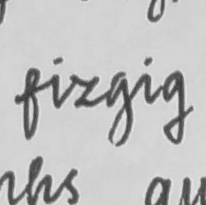f: (19, 65, 45, 142)
g: (159, 68, 195, 146), (103, 69, 136, 148)
i: (47, 54, 66, 111), (138, 54, 156, 106)
z: (67, 70, 101, 111)
